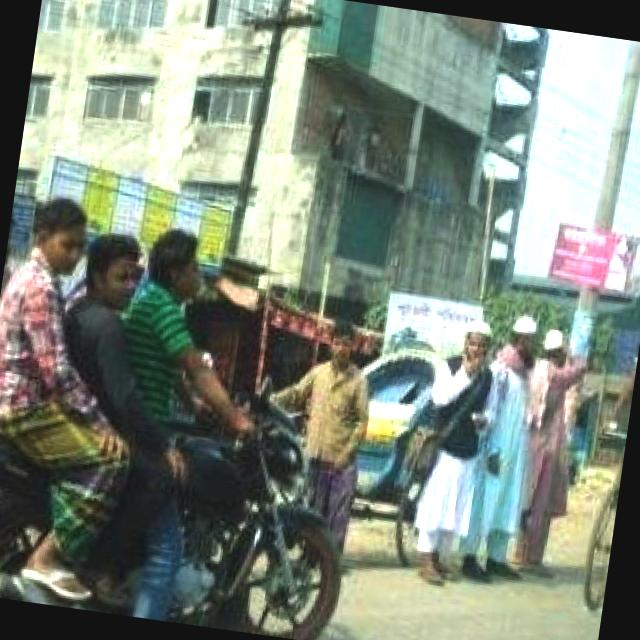motorcycle: (0, 349, 371, 640)
person: (96, 221, 254, 565), (35, 220, 156, 519), (0, 187, 99, 484)
rider_region: (0, 186, 388, 640)
